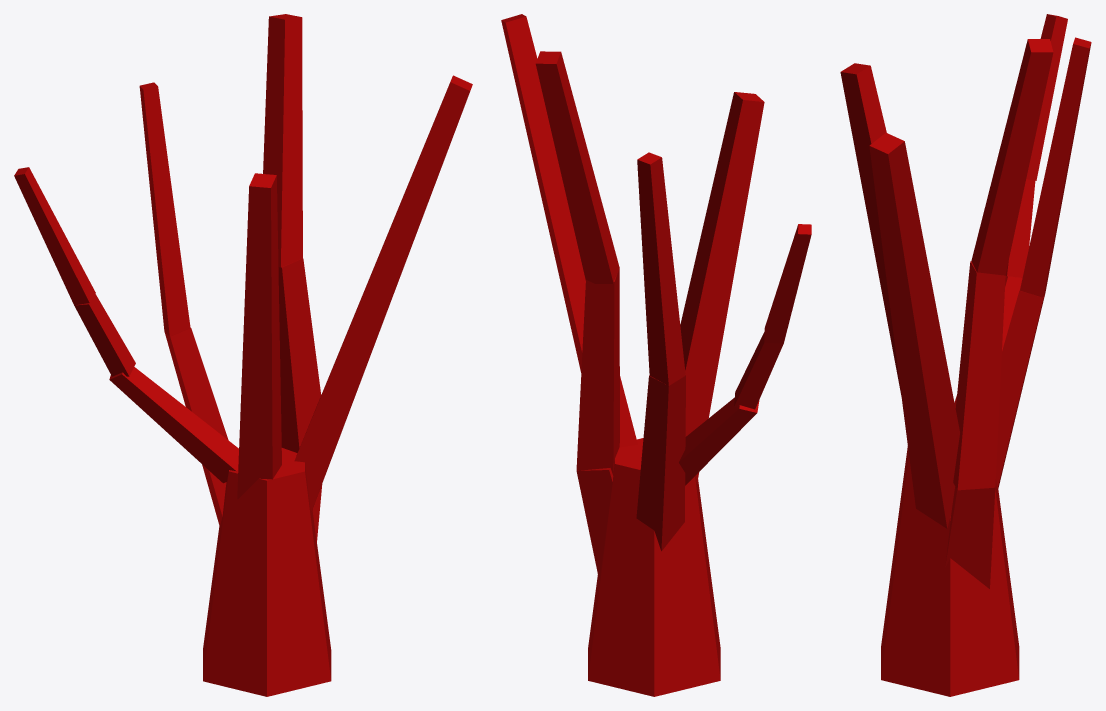
The model's file is SM_Env_Tree_Pohutukawa_03_Collision.gltf.
3 renders of one model, left to right at view 1: azimuth 30°, elevation 25°; view 2: azimuth 150°, elevation 25°; view 3: azimuth 270°, elevation 25°, orthographic. The views are drawn at different scales.
Visible parts, largest first — view 1: SM_Env_Tree_Pohutukawa_03_Collision; view 2: SM_Env_Tree_Pohutukawa_03_Collision; view 3: SM_Env_Tree_Pohutukawa_03_Collision.
Boxes of the visible parts, bbox=[...] form: SM_Env_Tree_Pohutukawa_03_Collision: bbox=[14, 14, 472, 696]; SM_Env_Tree_Pohutukawa_03_Collision: bbox=[501, 14, 811, 696]; SM_Env_Tree_Pohutukawa_03_Collision: bbox=[840, 14, 1091, 696].
Bounding box in the file's own units: 1.88 × 2.86 × 0.9988.
